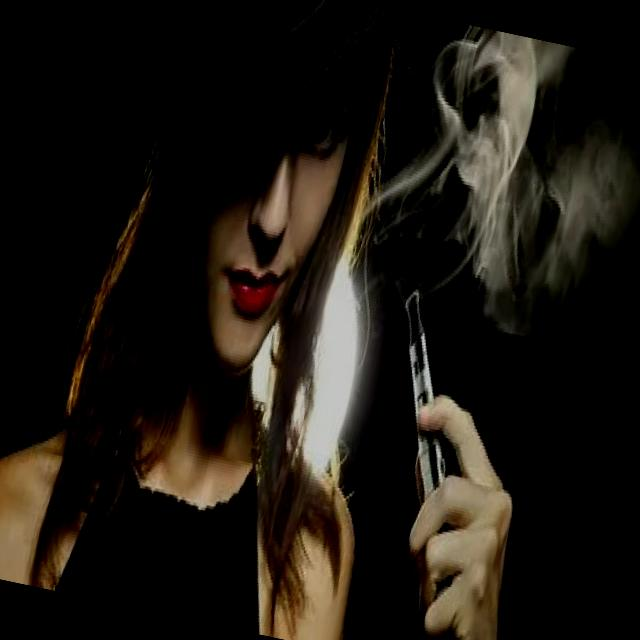smoke: (329, 277, 533, 640)
